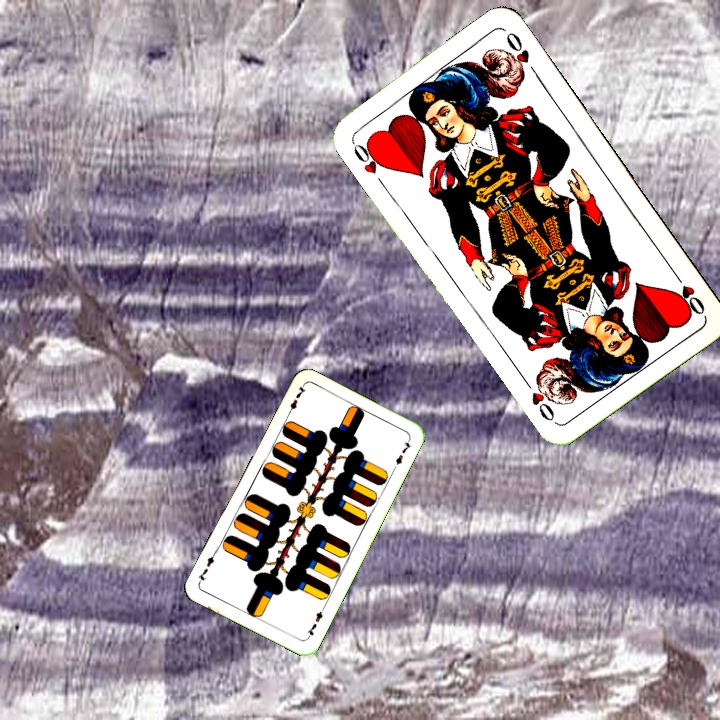E7: (282, 382, 308, 419), (303, 603, 327, 641)
HO: (668, 266, 708, 318), (347, 136, 390, 177)
